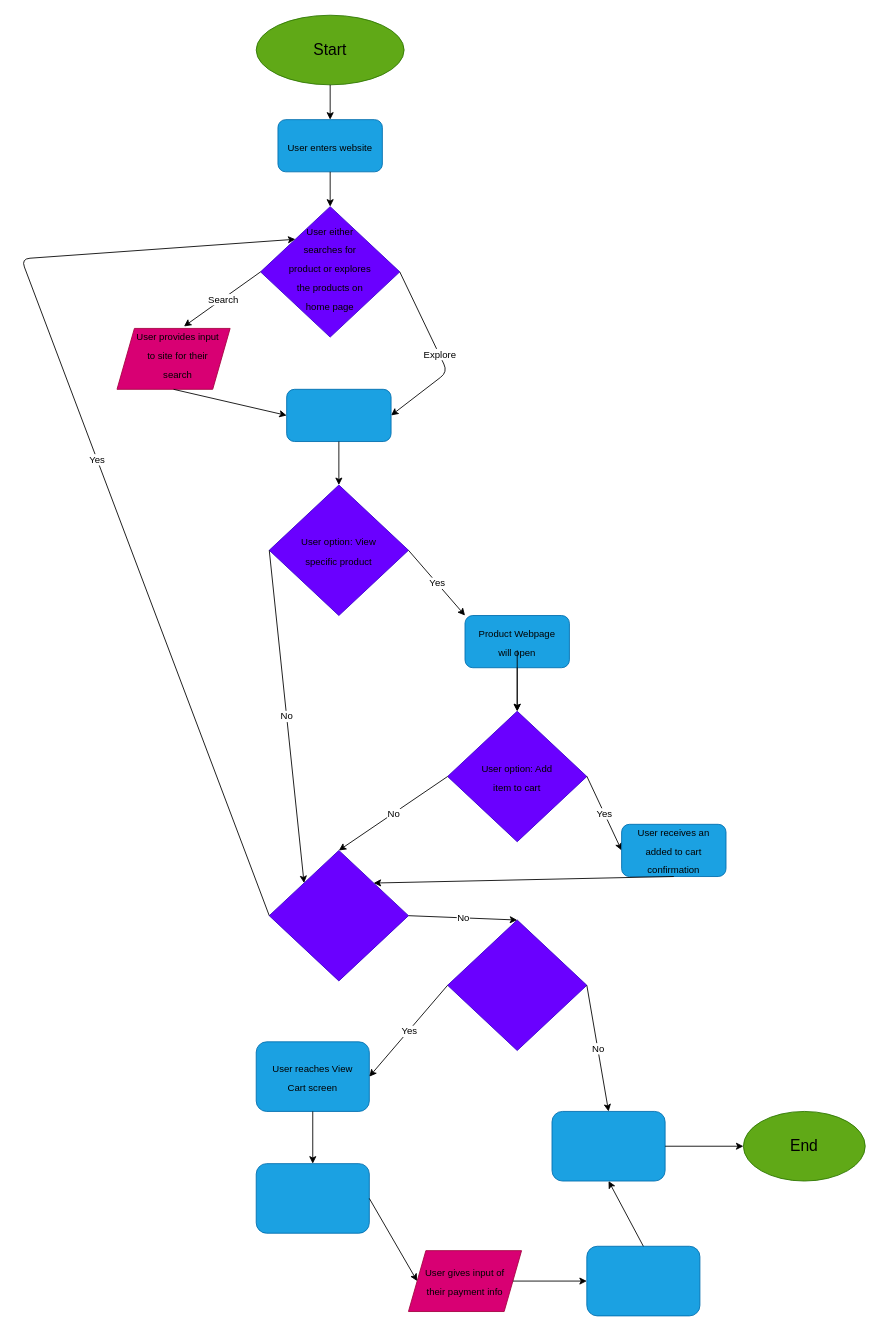
Some shapes in this 880 by 1331 pixel diagram are drawn without their labels. The centre of each missing label's shape, as x and y in pixels:
User begins looking over products: the point at 338,415
User option: Checkout: the point at 517,985
User option: Continue Shopping: the point at 338,915
User reaches View Payment screen: the point at 312,1198
User will leave website: the point at 608,1146
User will see order confirmations creen and receive an email: the point at 643,1280
